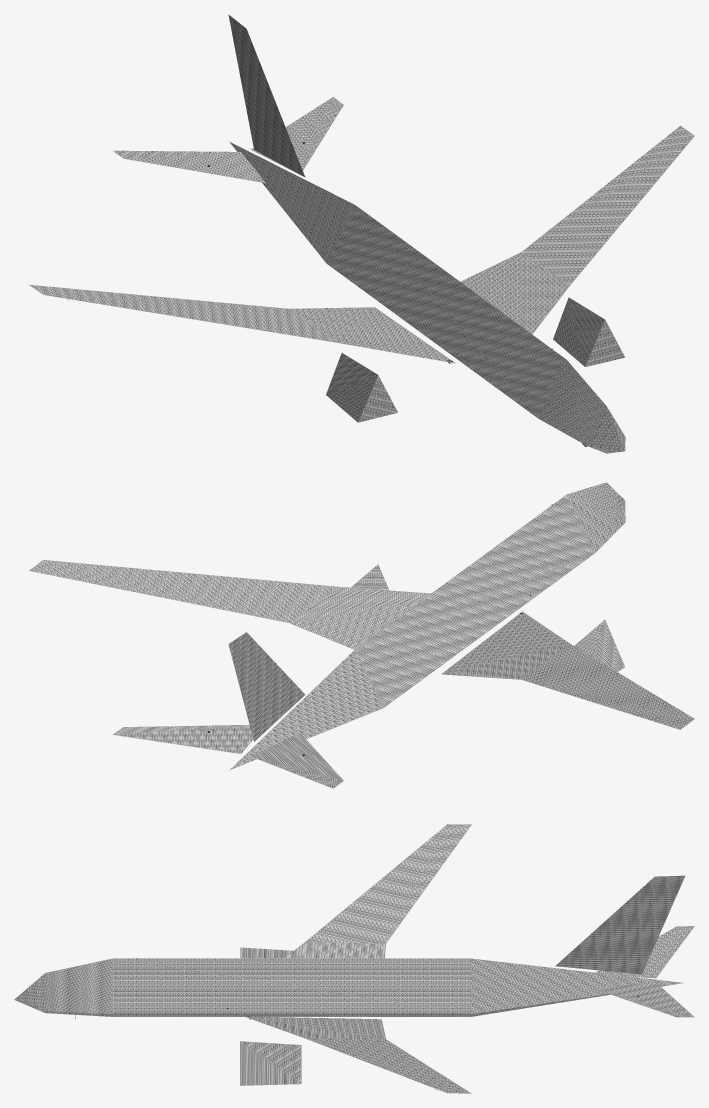
The model's file is UTT_Boeing_787-9_GE_LOD1.gltf.
The picture shows the model from 3 angles, top to bottom: view 1: azimuth 30°, elevation 25°; view 2: azimuth 150°, elevation 25°; view 3: azimuth 270°, elevation 25°; orthographic projection. The views are drawn at different scales.
Visible parts, largest first — view 1: Fuse_LOD_15; view 2: Fuse_LOD_15; view 3: Fuse_LOD_15.
Boxes of the visible parts, x1,y1,x2,y2 form: Fuse_LOD_15: (29,14,694,453); Fuse_LOD_15: (29,482,694,788); Fuse_LOD_15: (14,824,694,1093).
Size of the model in its own units: 60.56 by 15.9 by 63.3.
